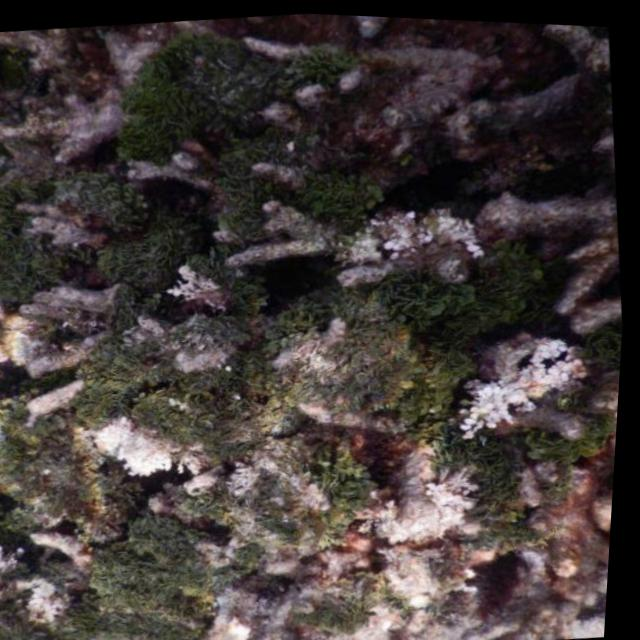Healthy Coral: (0, 1, 608, 629)
